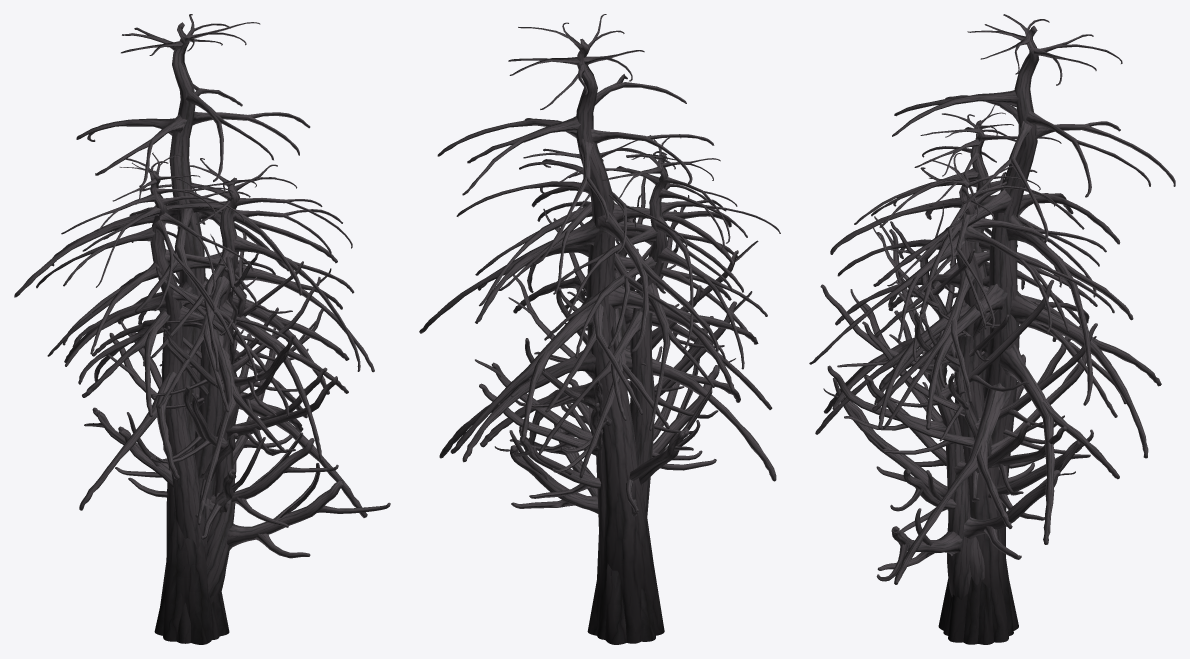
Rendered from trees-dead.glb.
3 renders of one model, left to right at view 1: azimuth 30°, elevation 25°; view 2: azimuth 150°, elevation 25°; view 3: azimuth 270°, elevation 25°, orthographic. The views are drawn at different scales.
Visible parts, largest first — view 1: DeadTree_5, DeadTree_4, DeadTree_2, DeadTree_3, DeadTree_1; view 2: DeadTree_5, DeadTree_4, DeadTree_3, DeadTree_2, DeadTree_1; view 3: DeadTree_5, DeadTree_4, DeadTree_2, DeadTree_1, DeadTree_3.
Part boxes in pixels (x1,y1,x2,y2): DeadTree_5: (14,14,367,644); DeadTree_4: (62,158,374,643); DeadTree_2: (118,232,390,601); DeadTree_3: (36,152,289,548); DeadTree_1: (84,272,338,535); DeadTree_5: (419,14,776,643); DeadTree_4: (456,140,772,644); DeadTree_3: (532,135,780,516); DeadTree_2: (475,177,758,516); DeadTree_1: (479,248,713,512); DeadTree_5: (830,14,1175,644); DeadTree_4: (809,153,1126,644); DeadTree_2: (820,203,1081,599); DeadTree_1: (862,275,1097,585); DeadTree_3: (854,105,1117,643).
Bounding box in the file's own units: 8.57 × 16.44 × 8.93.
Materials: 1 (1 with a texture image).
